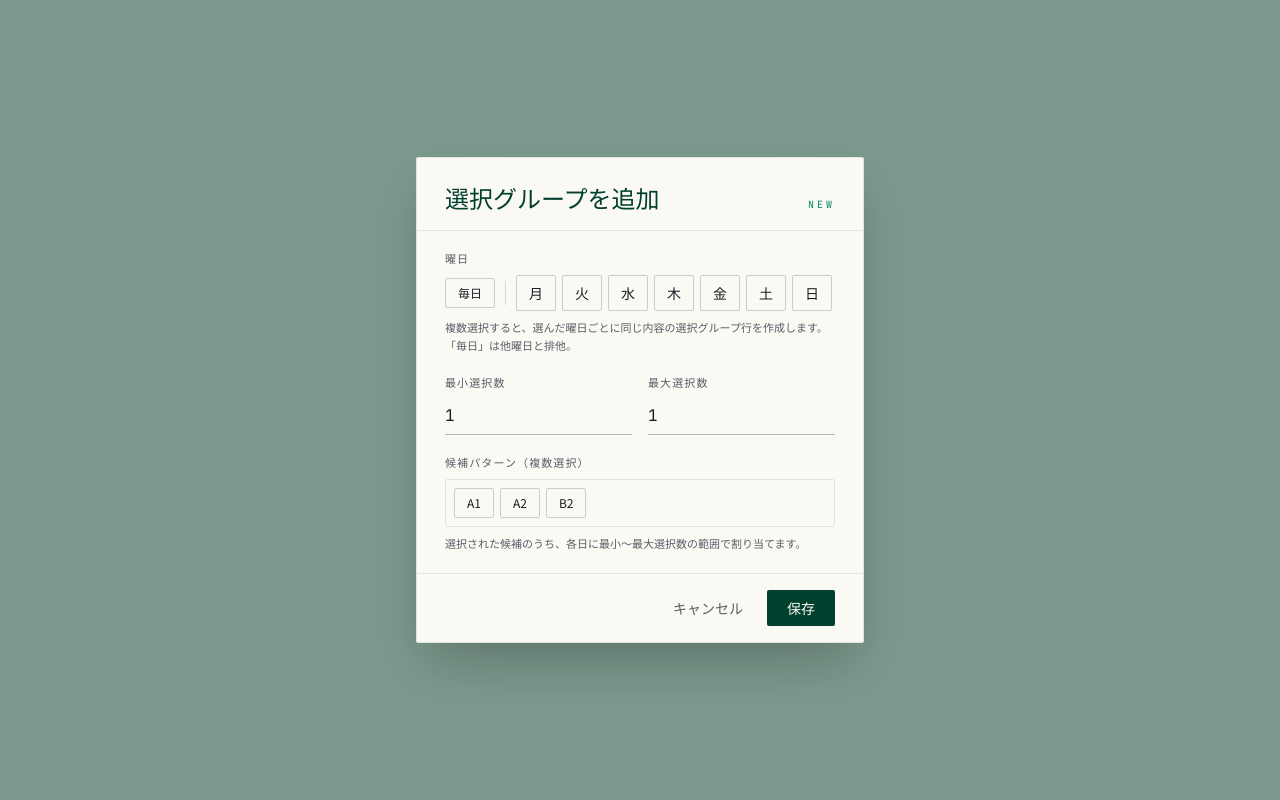
Scenario: ChoiceGroupFormModal — create mode › rejects submit when no weekday is selected
Click the button "A1".
click(474, 503)  # box [454,488,494,518]
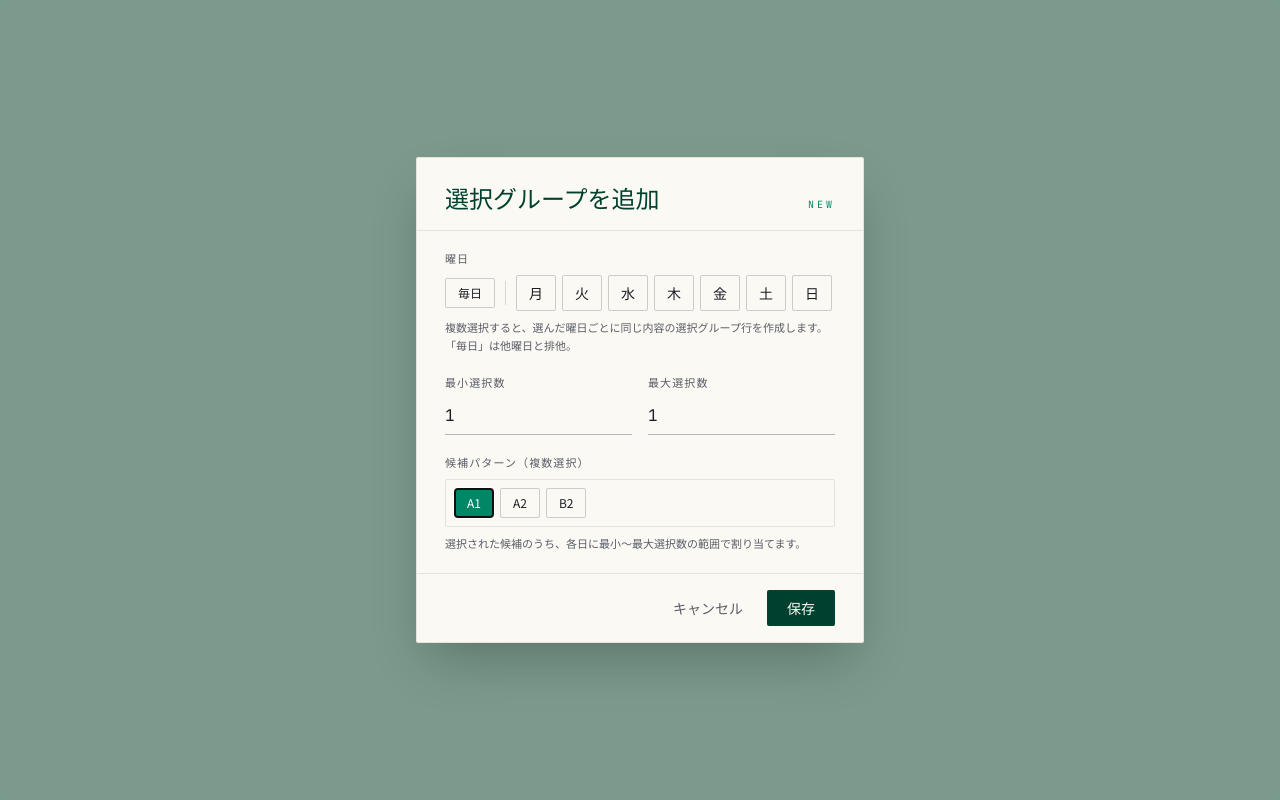
Click the button "保存".
click(801, 608)  # box [767,590,835,626]
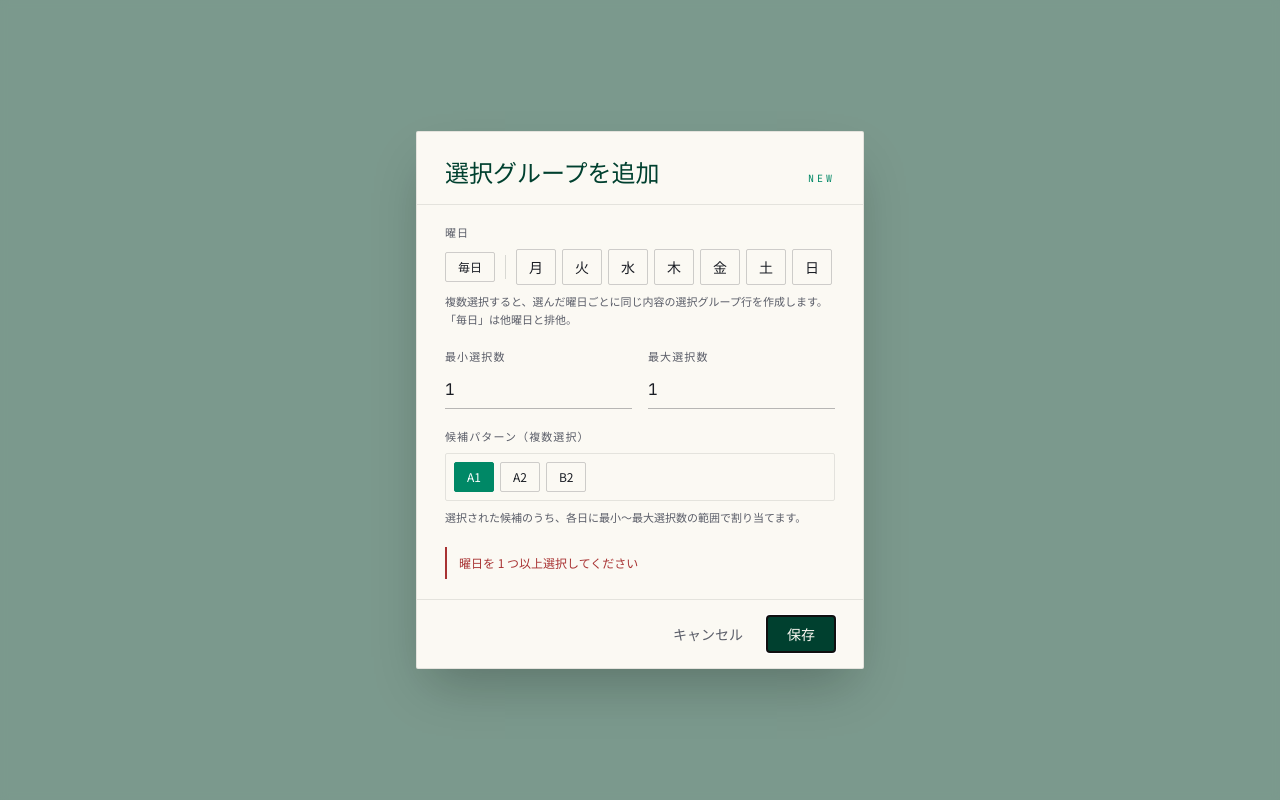
Now the text "曜日を 1 つ以上選択してください" is shown, box [445,547,835,579]
